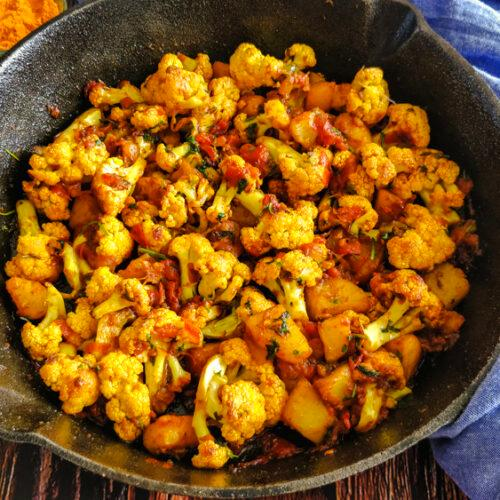aloo gobhi: (25, 49, 478, 458)
